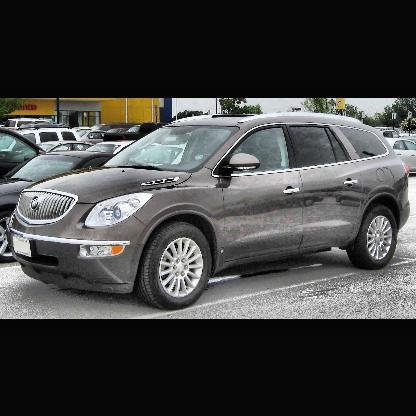Buick Enclave SUV 2012: (6, 113, 412, 314)
